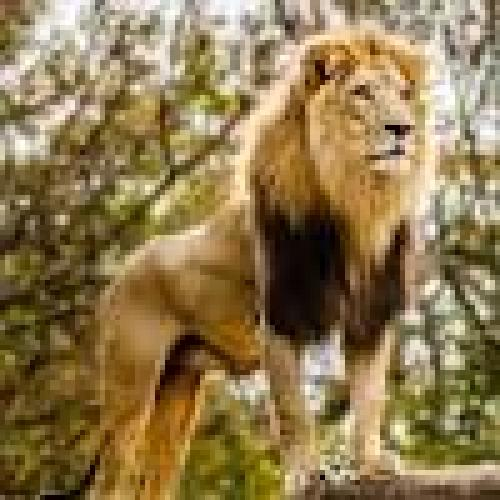lion-endangered: (94, 30, 435, 500)
